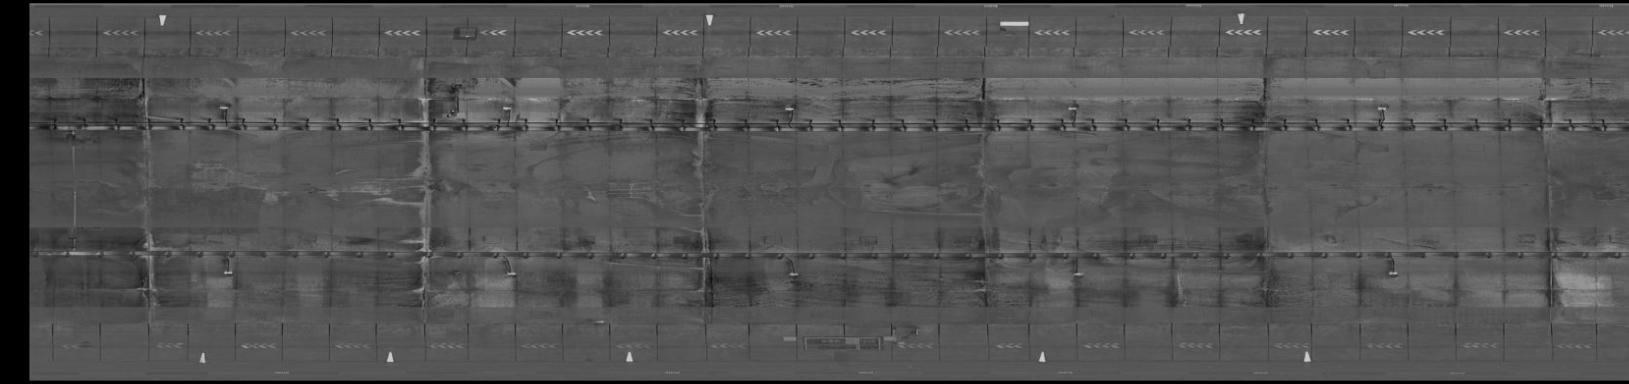light: (217, 265, 243, 282), (496, 103, 519, 115), (1383, 266, 1403, 280), (499, 268, 522, 280), (782, 269, 804, 280), (1067, 268, 1087, 280), (216, 101, 234, 114), (781, 103, 799, 115), (1061, 103, 1081, 113), (1371, 104, 1391, 114)
